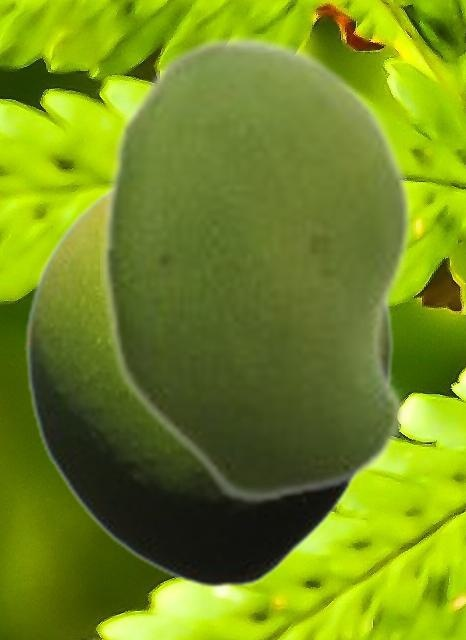green_mango: (24, 184, 394, 589), (100, 34, 414, 505)
